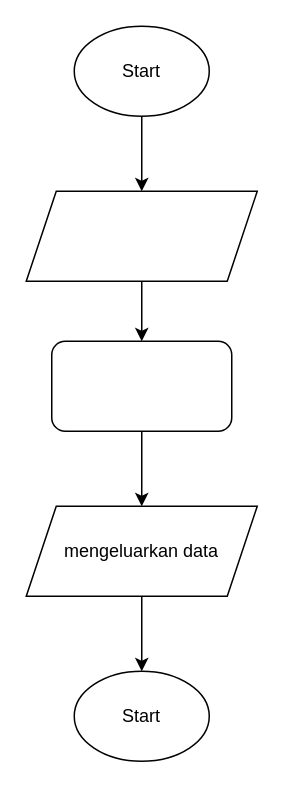
Image size: 284x788. Some labels were removed from this diagram. Each missing label, with the centre of its shape:
"input deret1, deret2. length" belongs at point (141, 235).
"Sistem melakukan pehitungan" belongs at point (141, 385).
